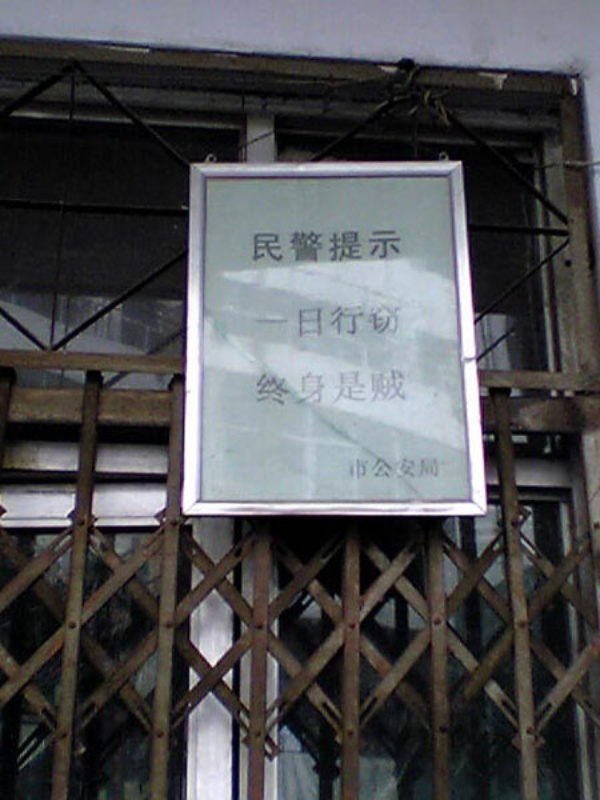text: (257, 227, 272, 267), (273, 227, 288, 267), (289, 227, 304, 267), (305, 227, 320, 267), (321, 227, 336, 267), (337, 227, 352, 267), (353, 227, 368, 267), (369, 227, 384, 267), (385, 227, 400, 267), (385, 303, 401, 339), (257, 369, 272, 407), (273, 369, 288, 407), (289, 369, 304, 407), (305, 369, 320, 407), (321, 369, 336, 407), (337, 369, 352, 407), (353, 369, 368, 407), (369, 369, 384, 407), (385, 369, 400, 407), (257, 303, 272, 339), (273, 303, 288, 339), (289, 303, 304, 339), (305, 303, 320, 339), (321, 303, 336, 339), (337, 303, 352, 339), (353, 303, 368, 339), (369, 303, 384, 339), (353, 456, 368, 482), (369, 456, 384, 482), (385, 456, 400, 482), (401, 456, 416, 482), (417, 456, 432, 482), (433, 456, 442, 482), (251, 227, 256, 267), (401, 369, 406, 407), (401, 227, 405, 267), (346, 456, 352, 482), (253, 369, 256, 407), (254, 303, 256, 339)
